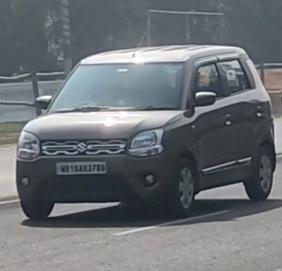Car: (13, 39, 279, 225), (9, 13, 143, 103)
